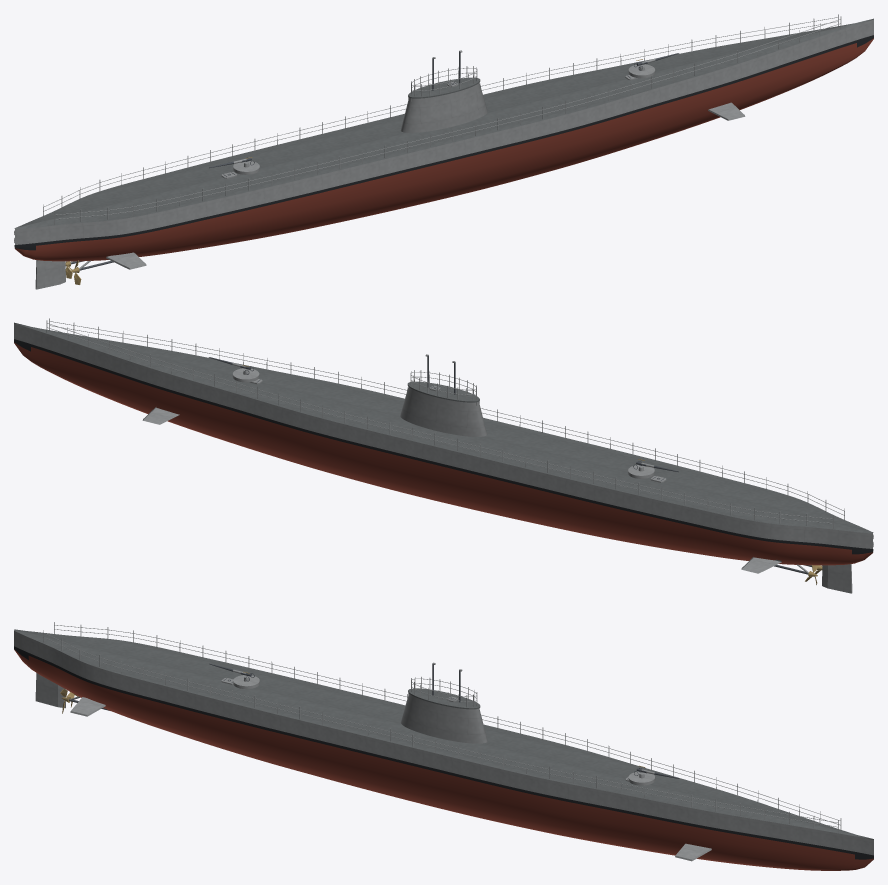
File: lagrange.glb
3 renders of one model, top to bottom at view 1: azimuth 30°, elevation 25°; view 2: azimuth 150°, elevation 25°; view 3: azimuth 330°, elevation 25°, orthographic.
Parts seen in each view (by area): view 1: Lagrange class; view 2: Lagrange class; view 3: Lagrange class.
Boxes of the visible parts, x1,y1,x2,y2 form: Lagrange class: (14,14,873,289); Lagrange class: (14,318,873,593); Lagrange class: (14,622,873,870).
Size of the model in its own units: 75.2 by 11.64 by 8.99.
6 materials, 2 textured.
